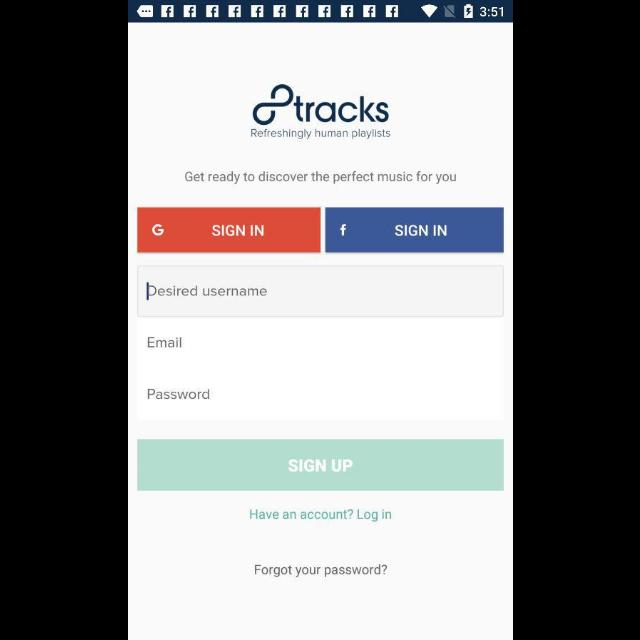image: (250, 84, 390, 140)
input: (137, 266, 503, 318)
text: (184, 171, 456, 185), (249, 508, 391, 522), (254, 564, 386, 578), (148, 286, 266, 296), (147, 389, 209, 399), (147, 337, 181, 348)
textbutton: (137, 439, 503, 491), (137, 208, 320, 252), (324, 208, 503, 252)
uppertaskbar: (128, 1, 512, 23)
